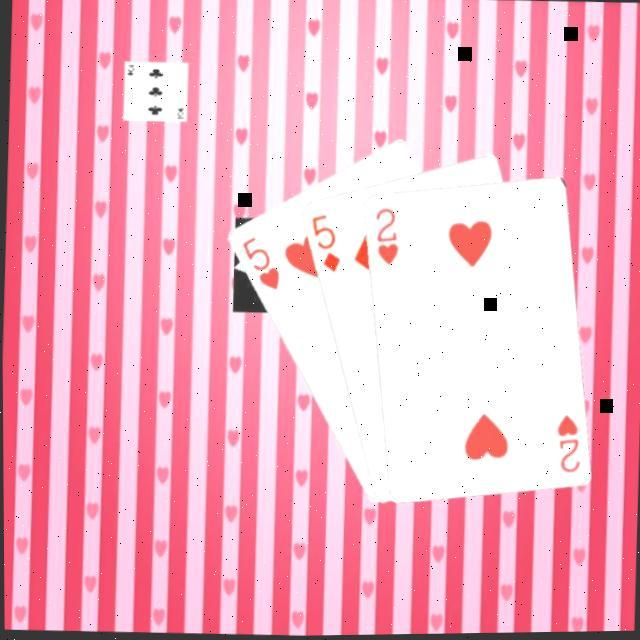2H: (367, 202, 399, 267), (548, 409, 580, 474)
5D: (303, 209, 341, 274)
5H: (234, 231, 280, 292)
